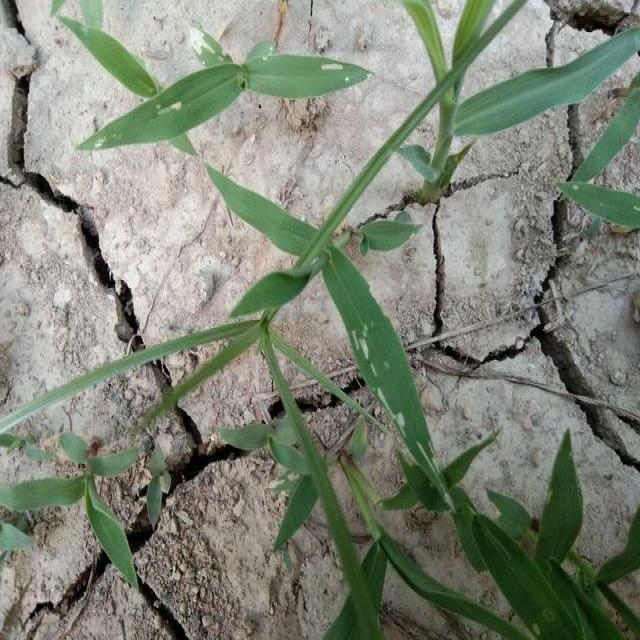weed: (258, 353, 481, 640), (218, 161, 418, 481), (50, 28, 363, 128), (410, 0, 632, 135), (514, 481, 639, 640), (9, 436, 158, 557)
